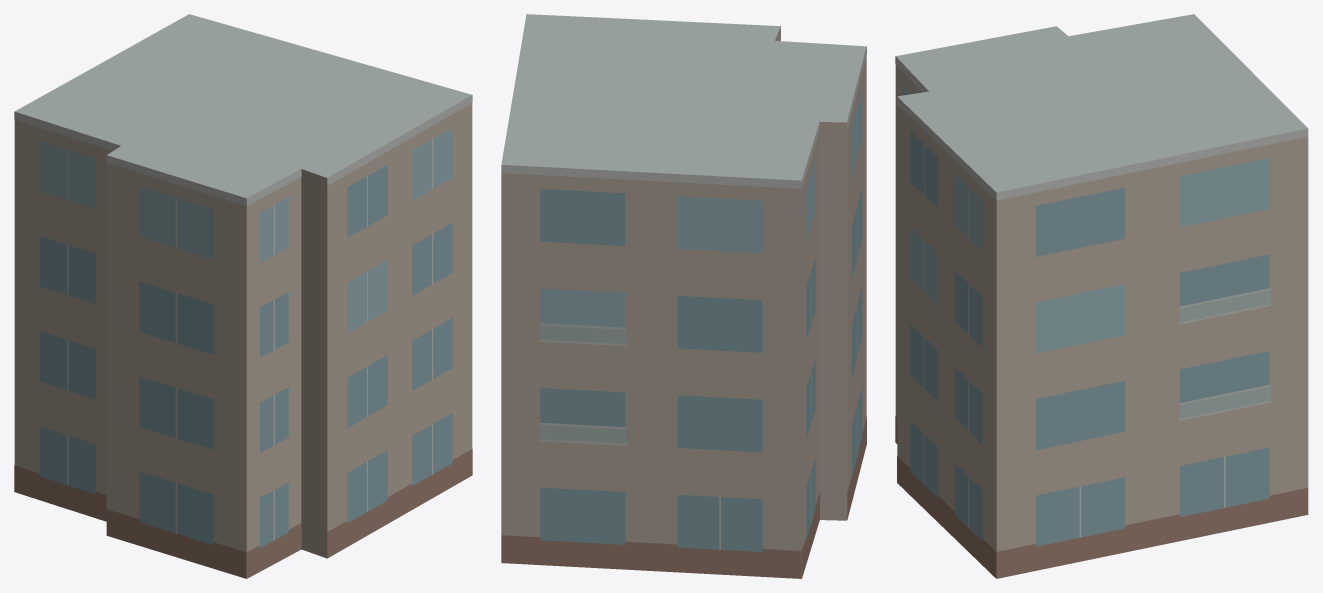
The model's file is survey-upis-32885290.glb.
3 views of the same model, side by side, from view 1: azimuth 30°, elevation 25°; view 2: azimuth 150°, elevation 25°; view 3: azimuth 270°, elevation 25° (orthographic). The views are drawn at different scales.
Visible parts, largest first — view 1: survey-upis-32885290.tmp; view 2: survey-upis-32885290.tmp; view 3: survey-upis-32885290.tmp.
Part boxes in pixels (x1,y1,x2,y2): survey-upis-32885290.tmp: [14, 14, 472, 578]; survey-upis-32885290.tmp: [501, 14, 866, 578]; survey-upis-32885290.tmp: [895, 14, 1308, 578].
Size of the model in its own units: 11.66 by 11.75 by 11.39.
